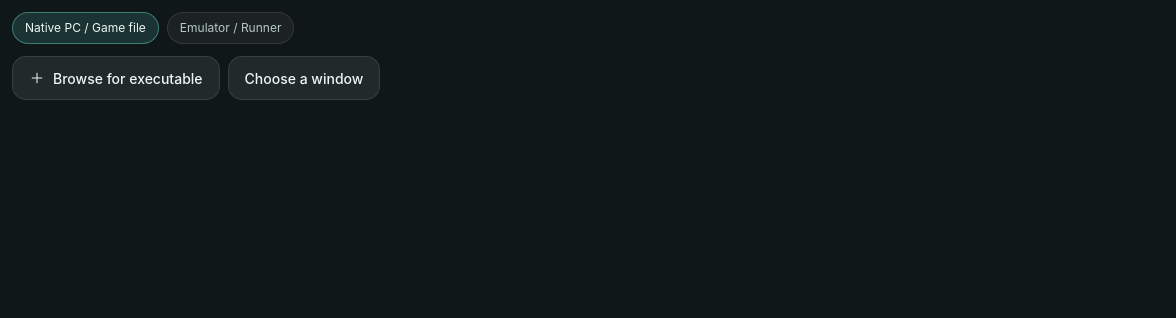
it: Window executable mapping › shows loading and discards a response after closing the picker
Step 1. Click the button "Choose a window" → (304, 78), box [228,56,380,100]
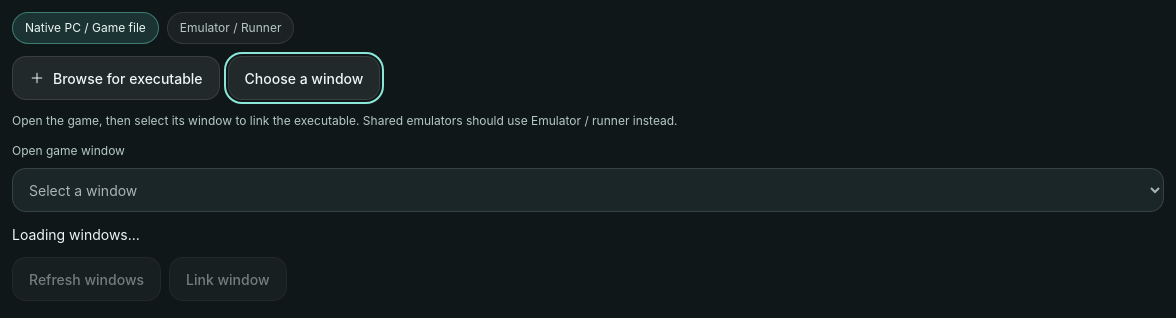
Now the message reads "Loading windows...", box [12,226,140,243]
Step 2. Click the button "Choose a window" → (304, 78), box [228,56,380,100]
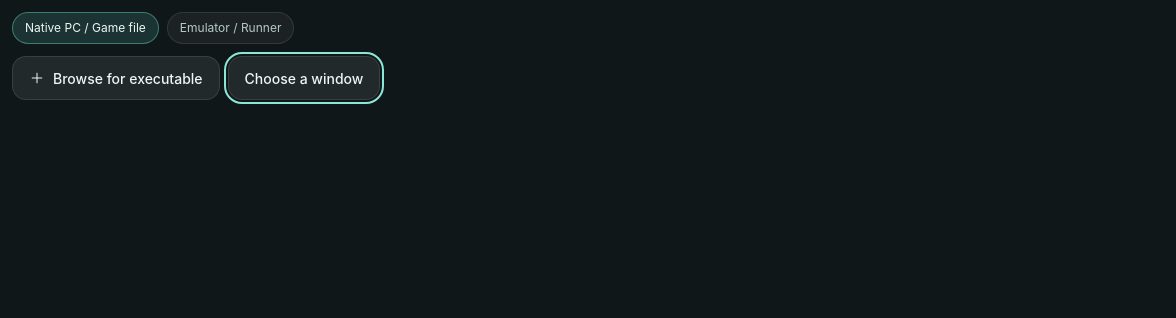
Now the text "Open game window" is gone
